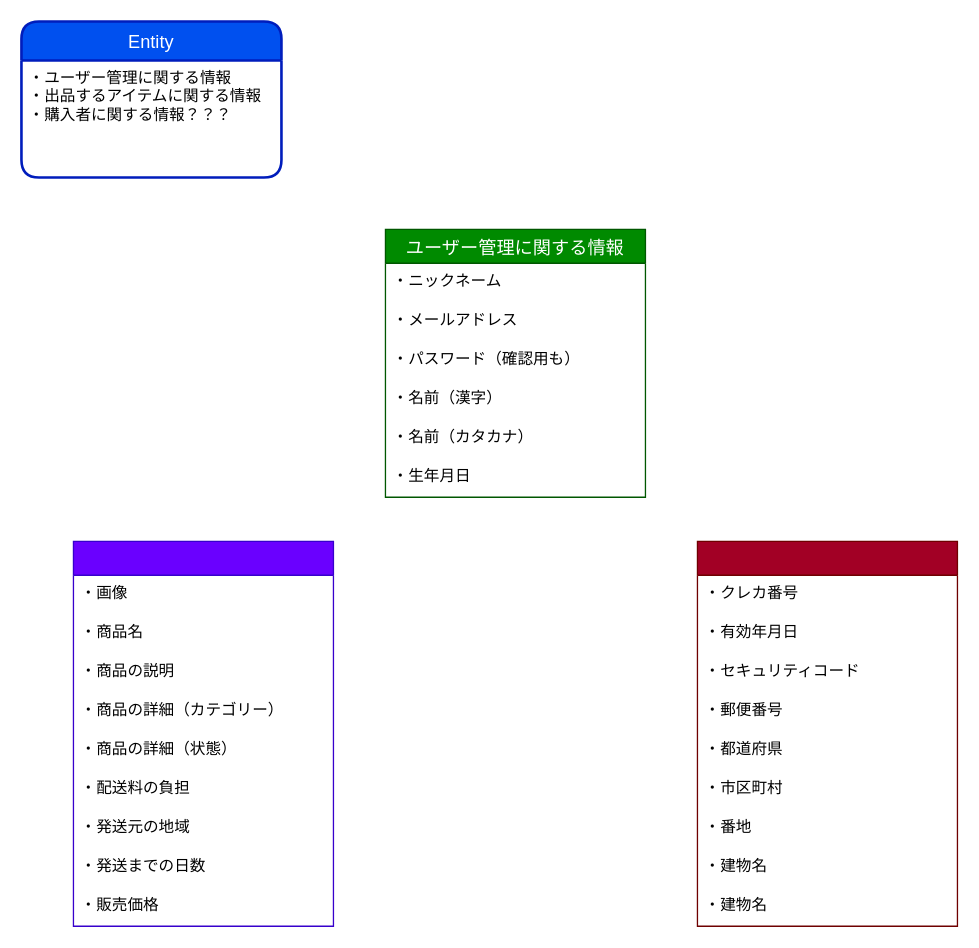
Some shapes in this 979 by 948 pixel diagram are drawn without their labels. Here are the shapes that lost their labels. From the top down, the box of each, then its label:
(72, 540, 333, 926): 出品するアイテムに関する情報
(696, 540, 957, 926): 購入者に関する情報
